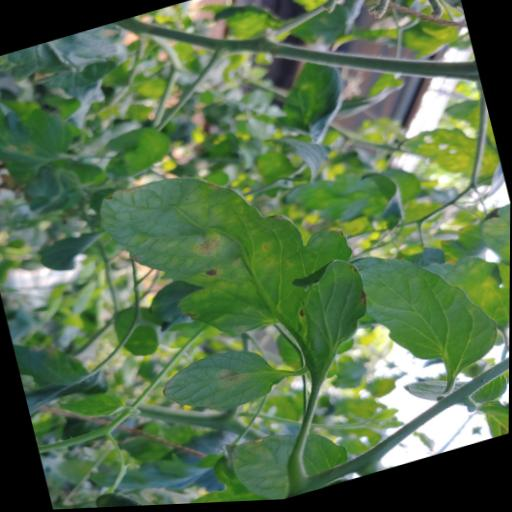Healthy: (351, 227, 508, 397)
Leaf Mold: (90, 128, 379, 406), (154, 342, 283, 429)
